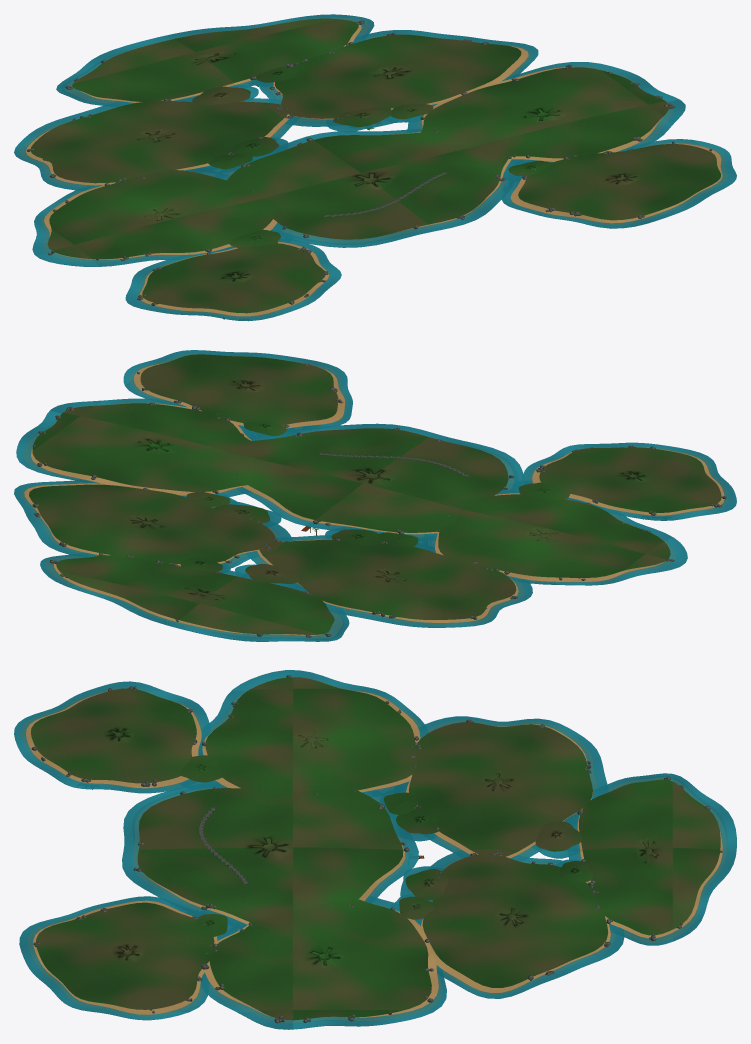
The model's file is bali-intro.glb.
3 renders of one model, top to bottom at view 1: azimuth 30°, elevation 25°; view 2: azimuth 150°, elevation 25°; view 3: azimuth 270°, elevation 25°, orthographic. The views are drawn at different scales.
Visible parts, largest first — view 1: Island_Main, Island_East, Island_West, Island_NorthWest, Island_NorthEast, Island_North, Island_SouthEast, Island_SouthWest, LagoonShelf_Main, LagoonShelf_North, LagoonShelf_SouthEast, LagoonShelf_SouthWest (+17 smaller); view 2: Island_Main, Island_East, Island_West, Island_NorthWest, Island_NorthEast, Island_North, Island_SouthEast, Island_SouthWest, LagoonShelf_North, LagoonShelf_Main, LagoonShelf_SouthWest, LagoonShelf_SouthEast (+17 smaller); view 3: Island_Main, Island_East, Island_West, Island_NorthWest, Island_NorthEast, Island_North, Island_SouthEast, Island_SouthWest, LagoonShelf_Main, LagoonShelf_North, LagoonShelf_SouthWest, LagoonShelf_SouthEast (+20 smaller).
Part boxes in pixels (x1,y1,x2,y2): Island_Main: (227, 133, 509, 239); Island_East: (421, 67, 669, 158); Island_West: (47, 170, 275, 259); Island_NorthWest: (30, 101, 288, 183); Island_NorthEast: (275, 34, 521, 118); Island_North: (72, 18, 358, 101); Island_SouthEast: (518, 144, 720, 220); Island_SouthWest: (142, 243, 325, 313); LagoonShelf_Main: (215, 129, 521, 247); LagoonShelf_North: (56, 14, 374, 107); LagoonShelf_SouthEast: (501, 139, 736, 228); LagoonShelf_SouthWest: (125, 238, 341, 320); Island_Main: (247, 428, 508, 532); Island_East: (32, 403, 254, 491); Island_West: (438, 494, 670, 577); Island_NorthWest: (259, 539, 516, 619); Island_NorthEast: (29, 484, 275, 563); Island_North: (56, 555, 334, 634); Island_SouthEast: (140, 354, 338, 425); Island_SouthWest: (539, 447, 721, 512); LagoonShelf_North: (40, 552, 349, 641); LagoonShelf_Main: (237, 423, 523, 540); LagoonShelf_SouthWest: (523, 442, 736, 520); LagoonShelf_SouthEast: (123, 350, 352, 432); Island_Main: (137, 788, 403, 922); Island_East: (209, 899, 431, 1020); Island_West: (205, 677, 416, 794); Island_NorthWest: (408, 722, 592, 856); Island_NorthEast: (422, 854, 608, 987); Island_North: (579, 779, 720, 935); Island_SouthEast: (36, 902, 214, 1009); Island_SouthWest: (31, 688, 196, 783); LagoonShelf_Main: (122, 783, 418, 929); LagoonShelf_North: (567, 773, 736, 945); LagoonShelf_SouthWest: (14, 681, 211, 793); LagoonShelf_SouthEast: (19, 896, 227, 1020).
Size of what is drawn, in the model's own units: 187 by 5.42 by 159.
91 materials, 15 textured.
